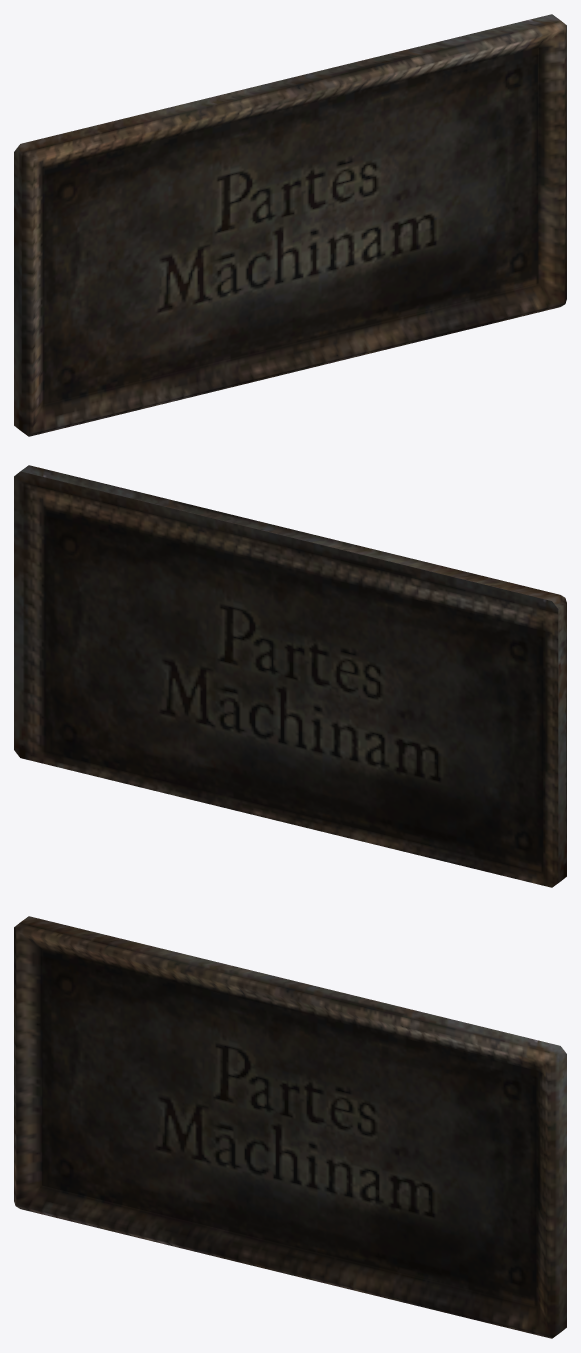
Rendered from sign_machine_parts.dae.
3 views of the same model, one above another, from view 1: azimuth 30°, elevation 25°; view 2: azimuth 150°, elevation 25°; view 3: azimuth 330°, elevation 25° (orthographic).
Visible parts, largest first — view 1: Box02; view 2: Box02; view 3: Box02.
Part boxes in pixels (<box>): Box02: <box>14,14,566,436</box>; Box02: <box>14,465,566,887</box>; Box02: <box>14,916,566,1338</box>.
Size of the model in its own units: 0.6037 by 0.0235 by 0.3038.
